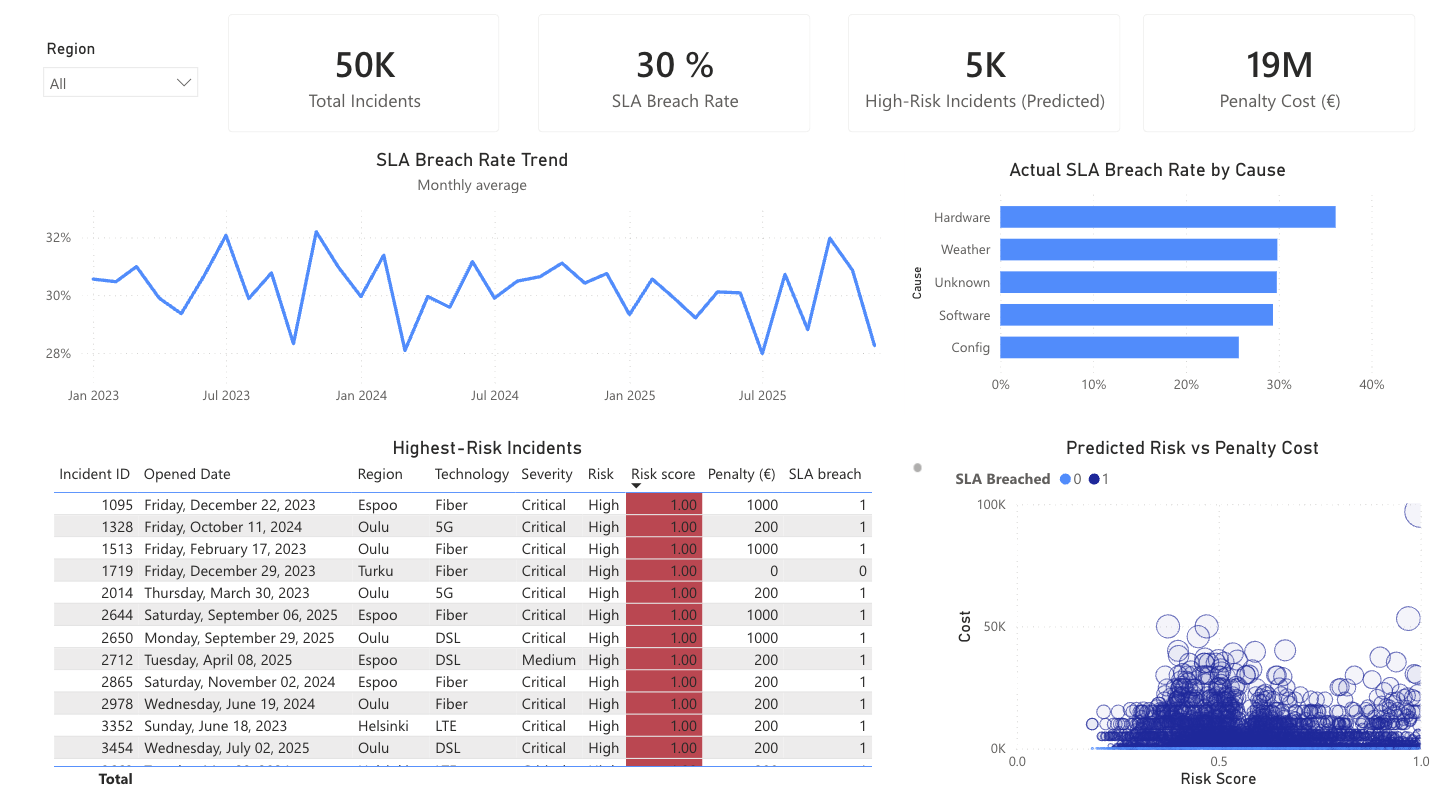

This screenshot's page, from the dashboard's own definition file:
{"tool":"powerbi","page":{"name":"Operational Triage","canvas":[1280,720],"ordinal":0},"visuals":[{"type":"cardVisual","fields":{"Data":["CountNonNull(dashboard_data.incident_id)","CountNonNull(dashboard_data.incident_id)"]},"box":[160.9,0,279,141.5],"z":0},{"type":"cardVisual","fields":{"Data":["Avg(dashboard_data.sla_breached)"]},"box":[439.9,0,280,141.5],"z":1000},{"type":"cardVisual","fields":{"Data":["CountNonNull(dashboard_data.incident_id)"]},"box":[719.9,0,280,141.5],"z":2000},{"type":"cardVisual","fields":{"Data":["Sum(dashboard_data.penalty_cost)"]},"box":[985.8,0,280.2,141.1],"z":3000},{"type":"lineChart","title":"SLA Breach Rate Trend","fields":{"Y":["Avg(dashboard_data.sla_breached)"],"Category":["dashboard_data.opened_month"]},"box":[8.2,141.3,780,237.3],"z":4000},{"type":"clusteredBarChart","title":"Actual SLA Breach Rate by Cause","fields":{"Category":["dashboard_data.cause_category"],"Y":["Avg(dashboard_data.sla_breached)"]},"box":[788.2,150.7,437.9,218.9],"z":5000},{"type":"tableEx","title":"Highest-Risk Incidents","fields":{"Values":["dashboard_data.incident_id","dashboard_data.opened_date","dashboard_data.site_city","dashboard_data.network_type","dashboard_data.severity","dashboard_data.risk_band","dashboard_data.risk_score","dashboard_data.penalty_cost","dashboard_data.sla_breached"]},"box":[14,401.3,794.6,319.2],"z":6000},{"type":"slicer","fields":{"Values":["dashboard_data.site_city"]},"box":[1,36.7,159.9,70.3],"z":8000},{"type":"scatterChart","title":"Predicted Risk vs Penalty Cost","fields":{"X":["dashboard_data.risk_score"],"Y":["Sum(dashboard_data.penalty_cost)"],"Series":["dashboard_data.sla_breached"],"Size":["Sum(dashboard_data.penalty_cost)"]},"box":[828.9,401.3,437.5,318.9],"z":9000}]}

Visuals, with their boxes in screenshot pixels (x1, y1, x2, y2), scaled from the page's 1280x720 canvas onto the 1430x793 screenshot:
cardVisual - CountNonNull(dashboard_data.incident_id) x CountNonNull(dashboard_data.incident_id): <region>180, 0, 491, 156</region>
cardVisual - Avg(dashboard_data.sla_breached): <region>491, 0, 804, 156</region>
cardVisual - CountNonNull(dashboard_data.incident_id): <region>804, 0, 1117, 156</region>
cardVisual - Sum(dashboard_data.penalty_cost): <region>1101, 0, 1414, 155</region>
"SLA Breach Rate Trend" lineChart: <region>9, 156, 881, 417</region>
"Actual SLA Breach Rate by Cause" clusteredBarChart: <region>881, 166, 1370, 407</region>
"Highest-Risk Incidents" tableEx: <region>16, 442, 903, 792</region>
slicer - dashboard_data.site_city: <region>1, 40, 180, 118</region>
"Predicted Risk vs Penalty Cost" scatterChart: <region>926, 442, 1415, 792</region>
